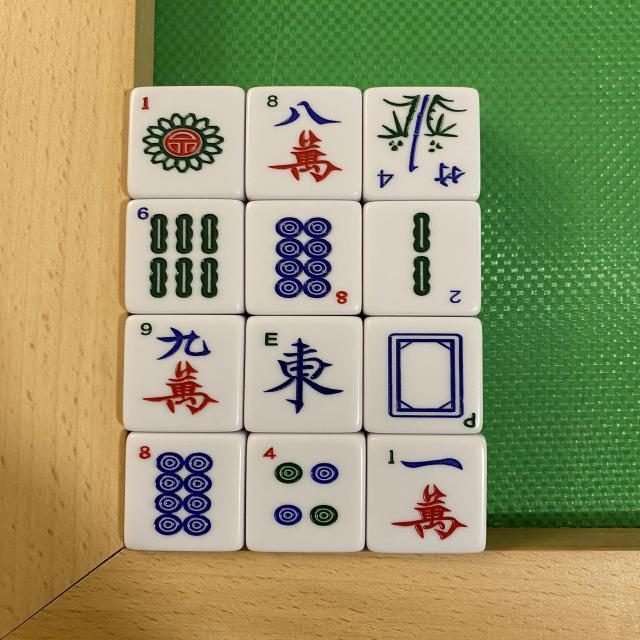bf4: (364, 88, 479, 200)
hdw: (365, 314, 480, 430)
hwe: (244, 314, 360, 432)
sb2: (364, 199, 479, 314)
sb6: (122, 203, 242, 316)
sc1: (368, 436, 485, 556)
sc8: (244, 86, 358, 198)
sc9: (120, 319, 239, 435)
sd1: (126, 88, 244, 200)
sd4: (245, 438, 363, 556)
sd8: (126, 435, 244, 554), (246, 200, 359, 312)
